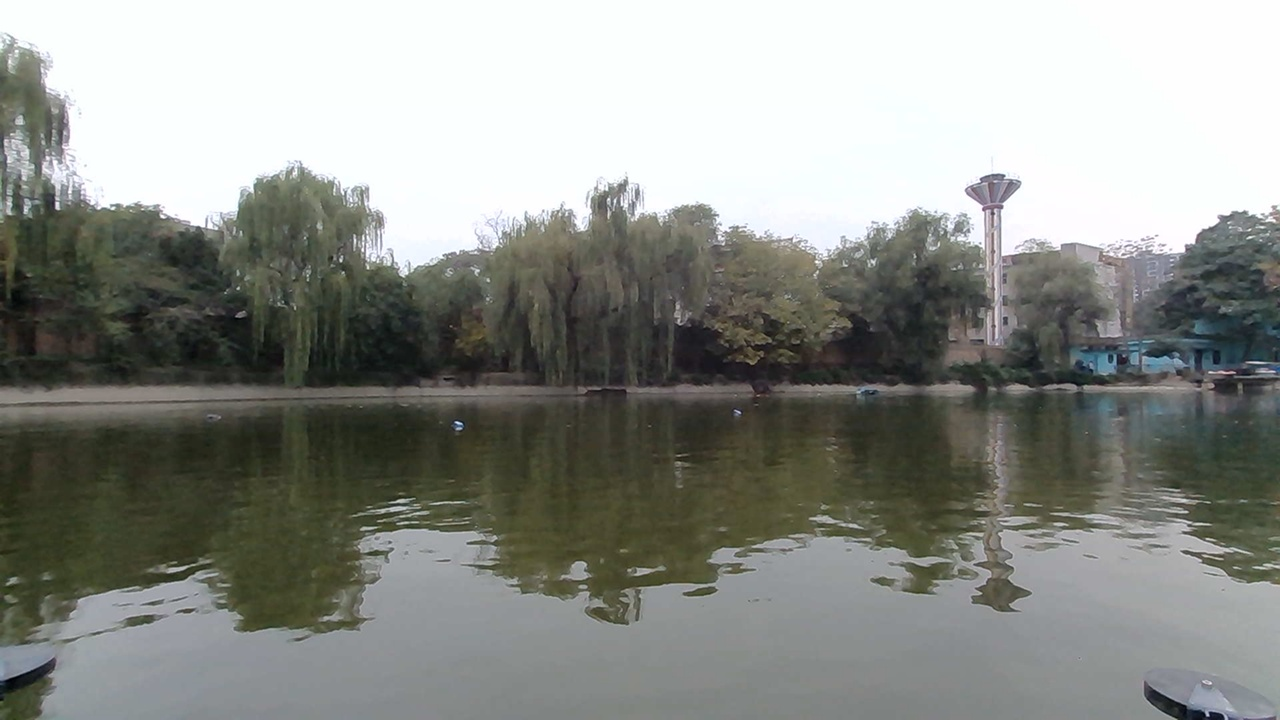bottle: (193, 398, 229, 429), (438, 408, 477, 436), (720, 399, 751, 420)
